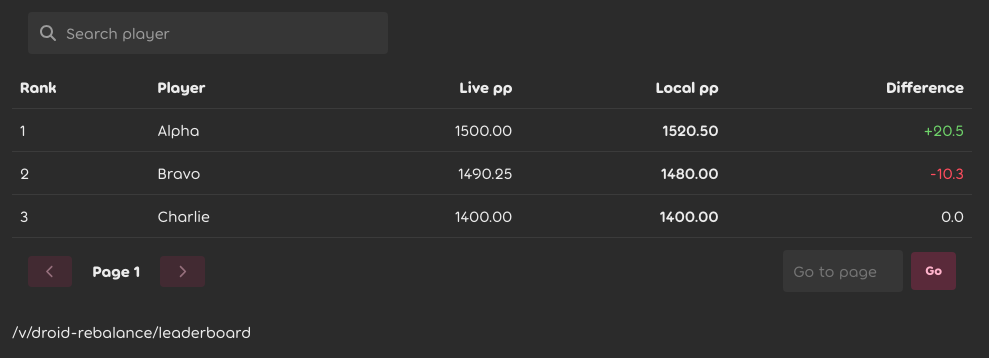
Scenario: LeaderboardTab › opens the player's profile when a row is clicked
Click the text "Bravo": (239, 173) [150, 152, 328, 194]
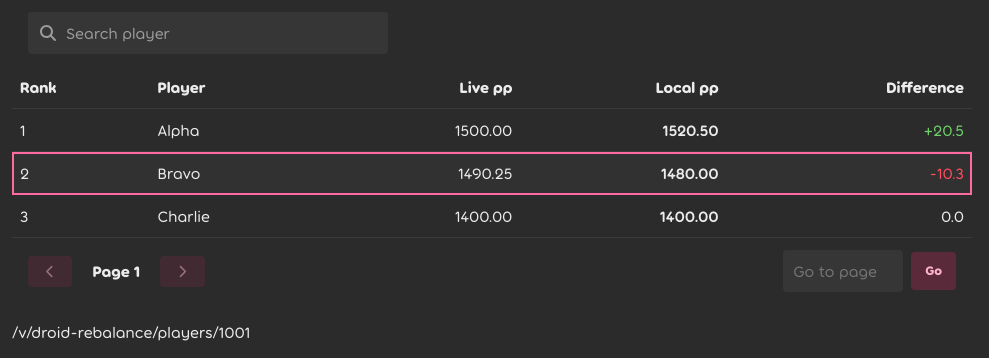
Now the text with test id "location" reads "/v/droid-rebalance/players/1001", box [12, 322, 250, 341]
